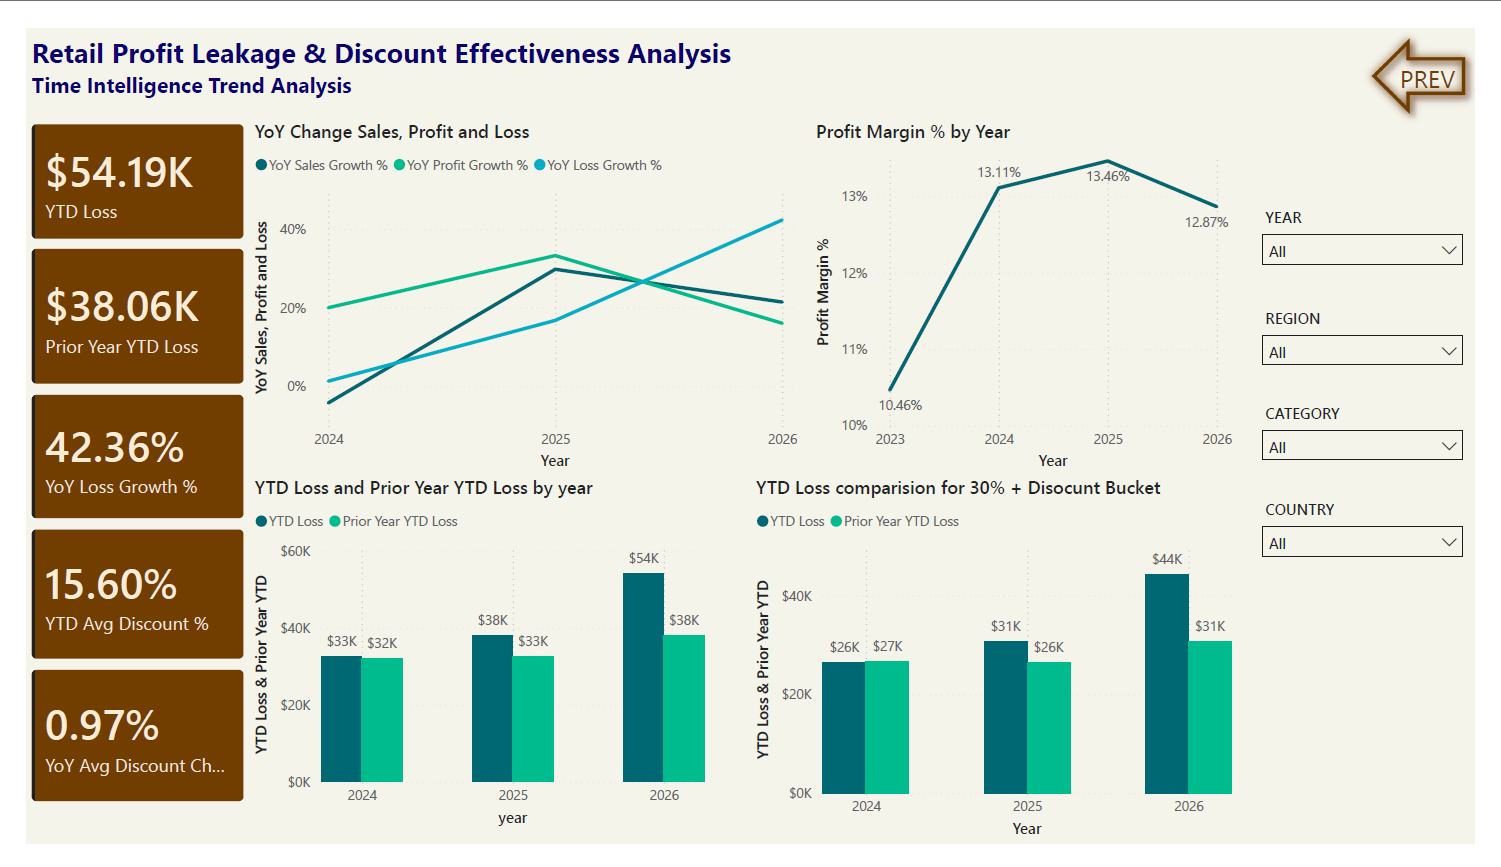

Layout of this report page (visuals, bound fields, positions):
{"tool":"powerbi","page":{"name":"Time Intelligence Trend Analysis","canvas":[1280,720],"ordinal":4},"visuals":[{"type":"cardVisual","fields":{"Data":["_Measures.Prior Year Loss"]},"box":[0,190,197,129],"z":0},{"type":"cardVisual","fields":{"Data":["_Measures.YoY Avg Discount Change %"]},"box":[0,562,197,126],"z":1000},{"type":"cardVisual","fields":{"Data":["_Measures.YTD Loss"]},"box":[0,80,197,111],"z":2000},{"type":"cardVisual","fields":{"Data":["_Measures.YTD Avg Discount %"]},"box":[0,438,197,124],"z":3000},{"type":"cardVisual","fields":{"Data":["_Measures.YoY Loss Change %"]},"box":[0,319,197,119],"z":4000},{"type":"lineChart","title":"YoY Change Sales, Profit and Loss","fields":{"Category":["dim_date.year"],"Y":["_Measures.YoY Sales Growth %","_Measures.YoY Profit Growth %","_Measures.YoY Loss Change %"]},"box":[197,80,489,315],"z":5000},{"type":"clusteredColumnChart","fields":{"Category":["dim_date.year"],"Y":["_Measures.YTD Loss","_Measures.Prior Year YTD Loss"]},"box":[197,395,407,315],"z":6000},{"type":"clusteredColumnChart","title":"YTD Loss comparision for 30% + Disocunt Bucket","fields":{"Category":["dim_date.year"],"Y":["_Measures.YTD Loss","_Measures.Prior Year YTD Loss"]},"box":[640,395,430,325],"z":7000},{"type":"lineChart","fields":{"Category":["dim_date.year"],"Y":["_Measures.Profit Margin %"]},"box":[693,80,377,315],"z":8000},{"type":"textbox","box":[0,0,722,80],"z":9000},{"type":"slicer","fields":{"Values":["dim_date.year"]},"box":[1082,153,198,85],"z":10000},{"type":"slicer","fields":{"Values":["dim_geography.region"]},"box":[1082,242,198,84],"z":11000},{"type":"slicer","fields":{"Values":["dim_product.category"]},"box":[1082,326,198,85],"z":12000},{"type":"slicer","fields":{"Values":["dim_geography.country"]},"box":[1082,411,198,80],"z":13000},{"type":"actionButton","box":[1179.8,0,100.2,84.6],"z":14000}]}

Visuals, with their boxes in screenshot pixels (x1, y1, x2, y2), scaled from the page's 1280x720 canvas onto the 1501x867 screenshot:
cardVisual - _Measures.Prior Year Loss: 0/229/231/384
cardVisual - _Measures.YoY Avg Discount Change %: 0/677/231/828
cardVisual - _Measures.YTD Loss: 0/96/231/230
cardVisual - _Measures.YTD Avg Discount %: 0/527/231/677
cardVisual - _Measures.YoY Loss Change %: 0/384/231/527
"YoY Change Sales, Profit and Loss" lineChart: 231/96/804/476
clusteredColumnChart - dim_date.year x _Measures.YTD Loss: 231/476/708/855
"YTD Loss comparision for 30% + Disocunt Bucket" clusteredColumnChart: 750/476/1255/866
lineChart - dim_date.year x _Measures.Profit Margin %: 813/96/1255/476
textbox: 0/0/847/96
slicer - dim_date.year: 1269/184/1500/287
slicer - dim_geography.region: 1269/291/1500/393
slicer - dim_product.category: 1269/393/1500/495
slicer - dim_geography.country: 1269/495/1500/591
actionButton: 1383/0/1500/102
